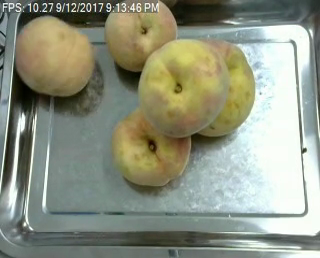Peach: (137, 36, 229, 138), (14, 15, 95, 97), (110, 106, 195, 184), (104, 0, 178, 72)
